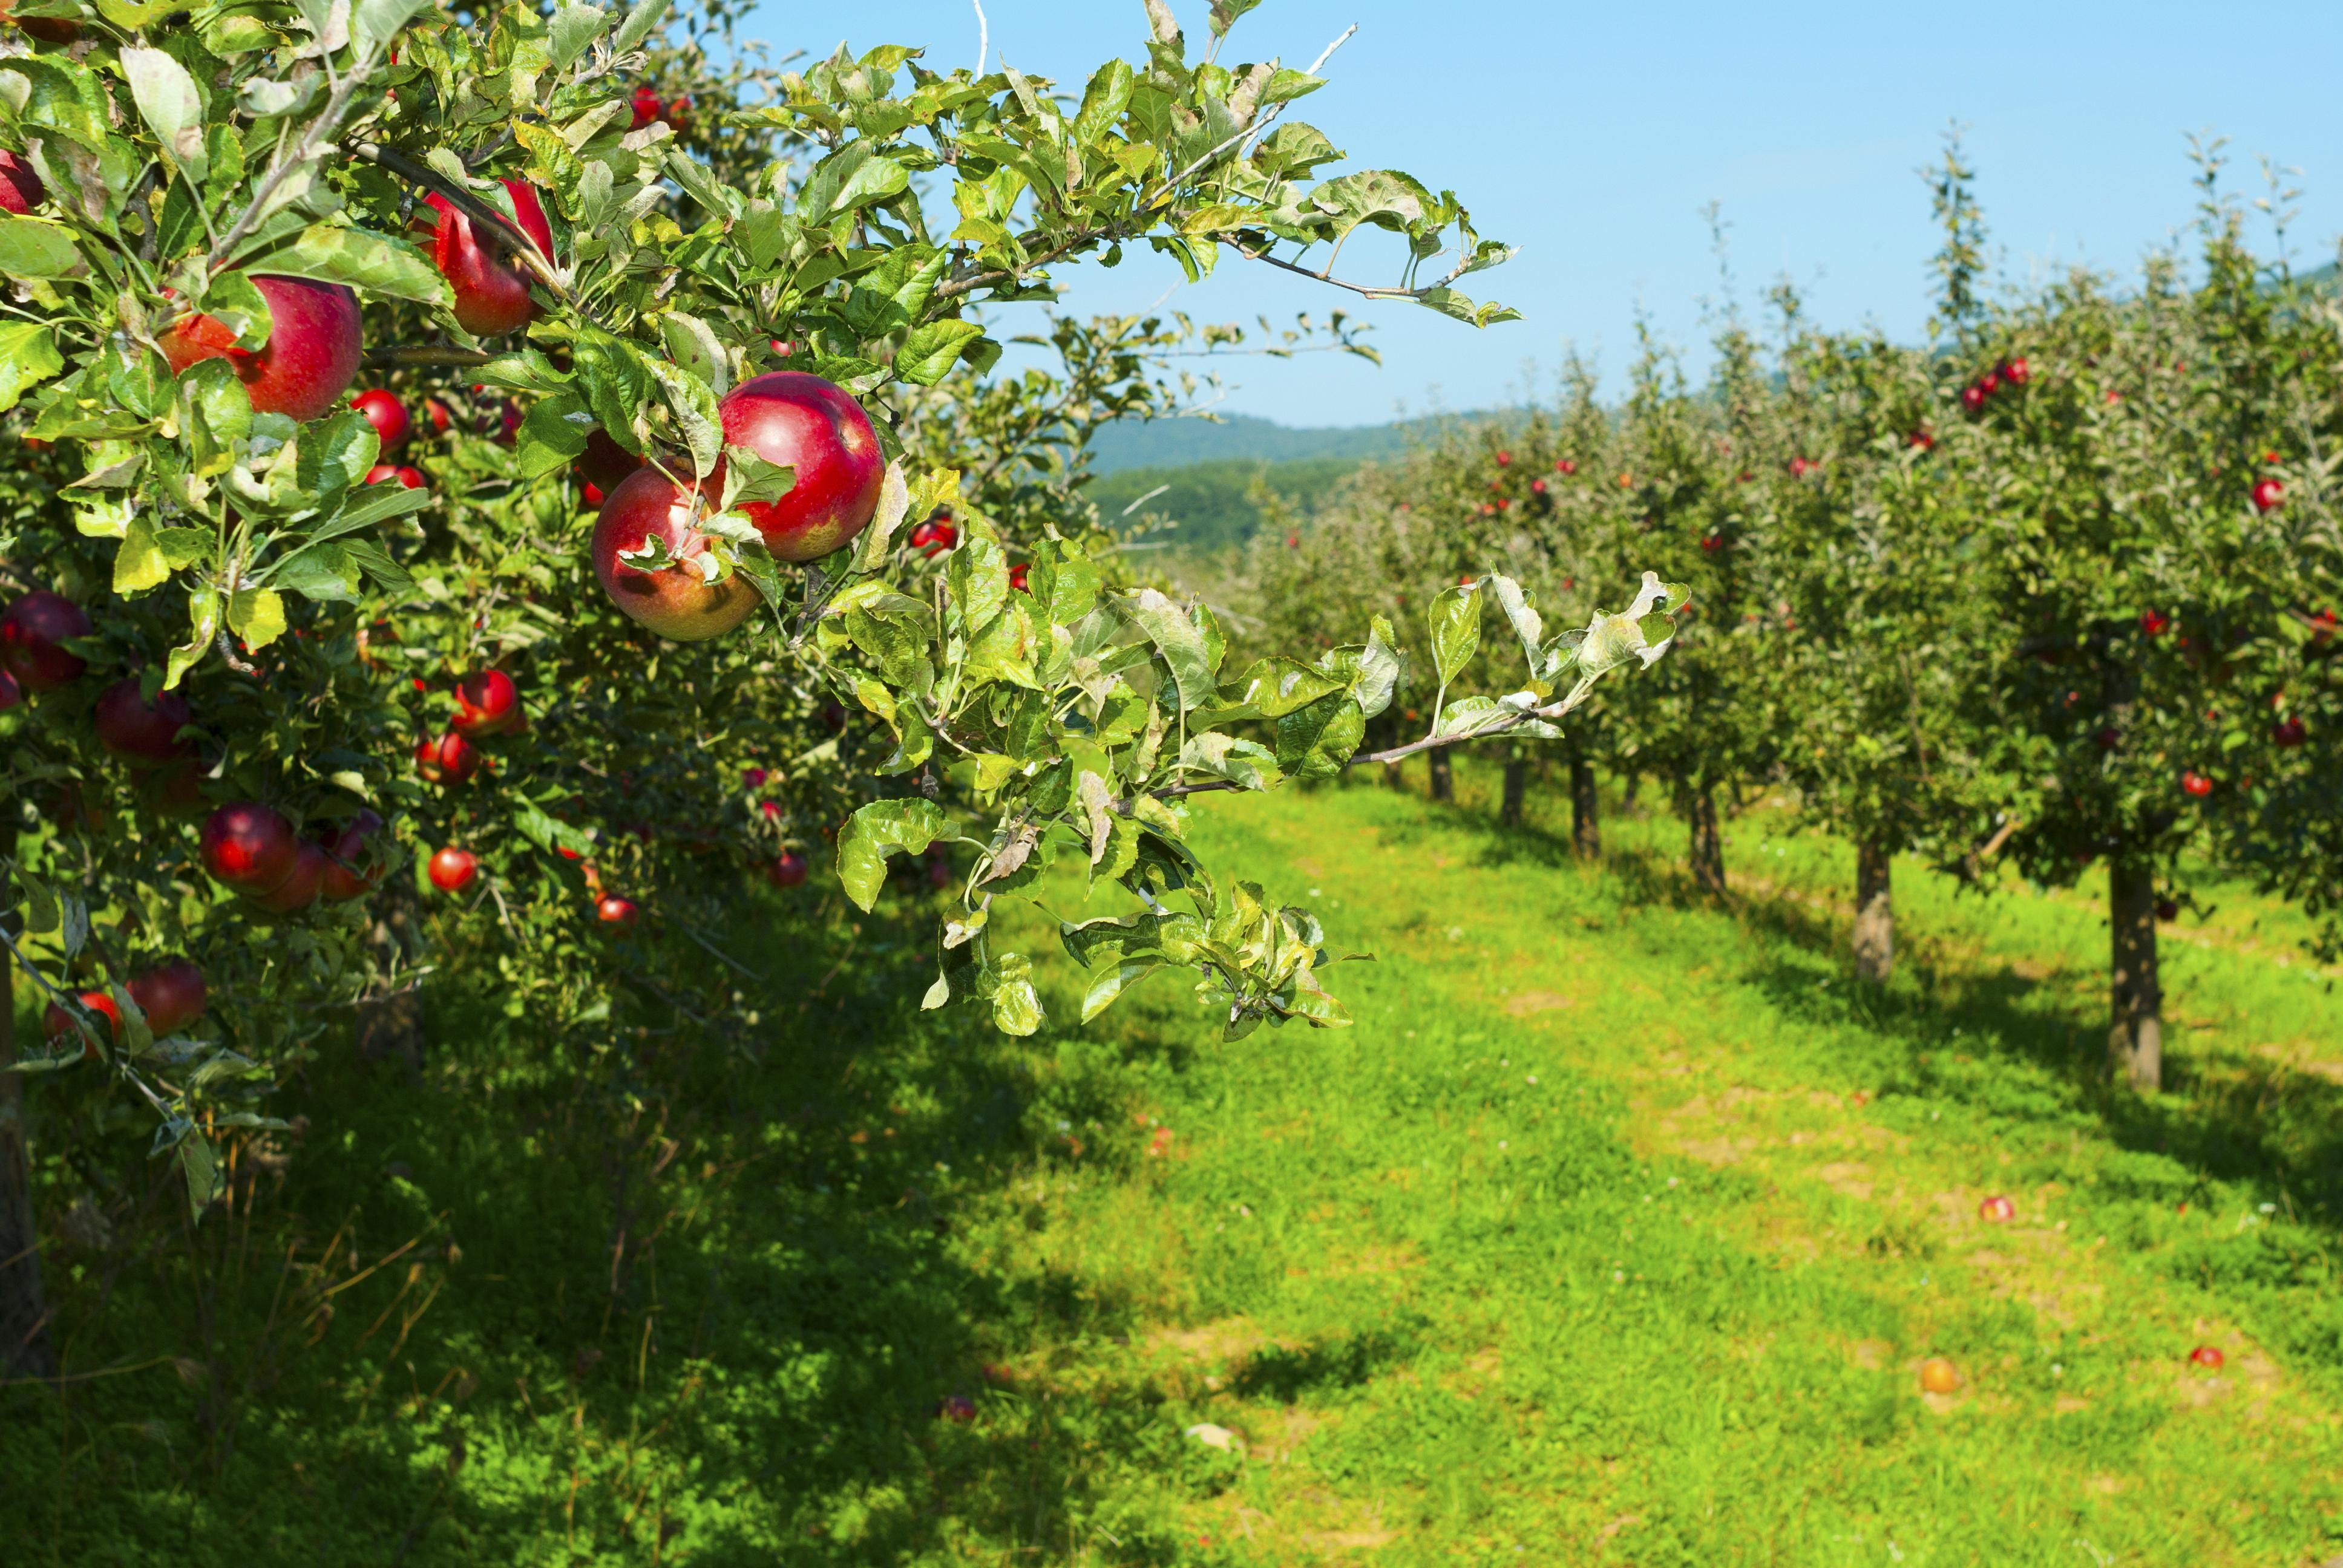apple: (709, 374, 887, 562), (593, 460, 759, 640), (178, 273, 353, 422), (93, 675, 198, 772), (119, 954, 205, 1039), (345, 388, 408, 457)
